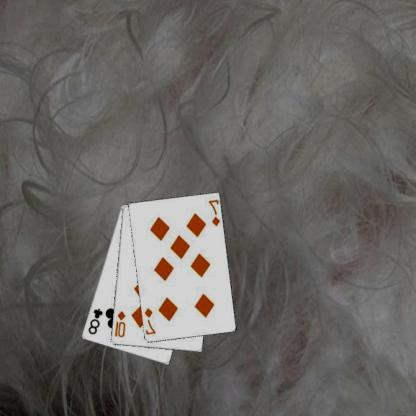10D: (114, 309, 128, 339)
7D: (208, 197, 223, 228), (144, 305, 158, 336)
8C: (87, 306, 105, 336)
